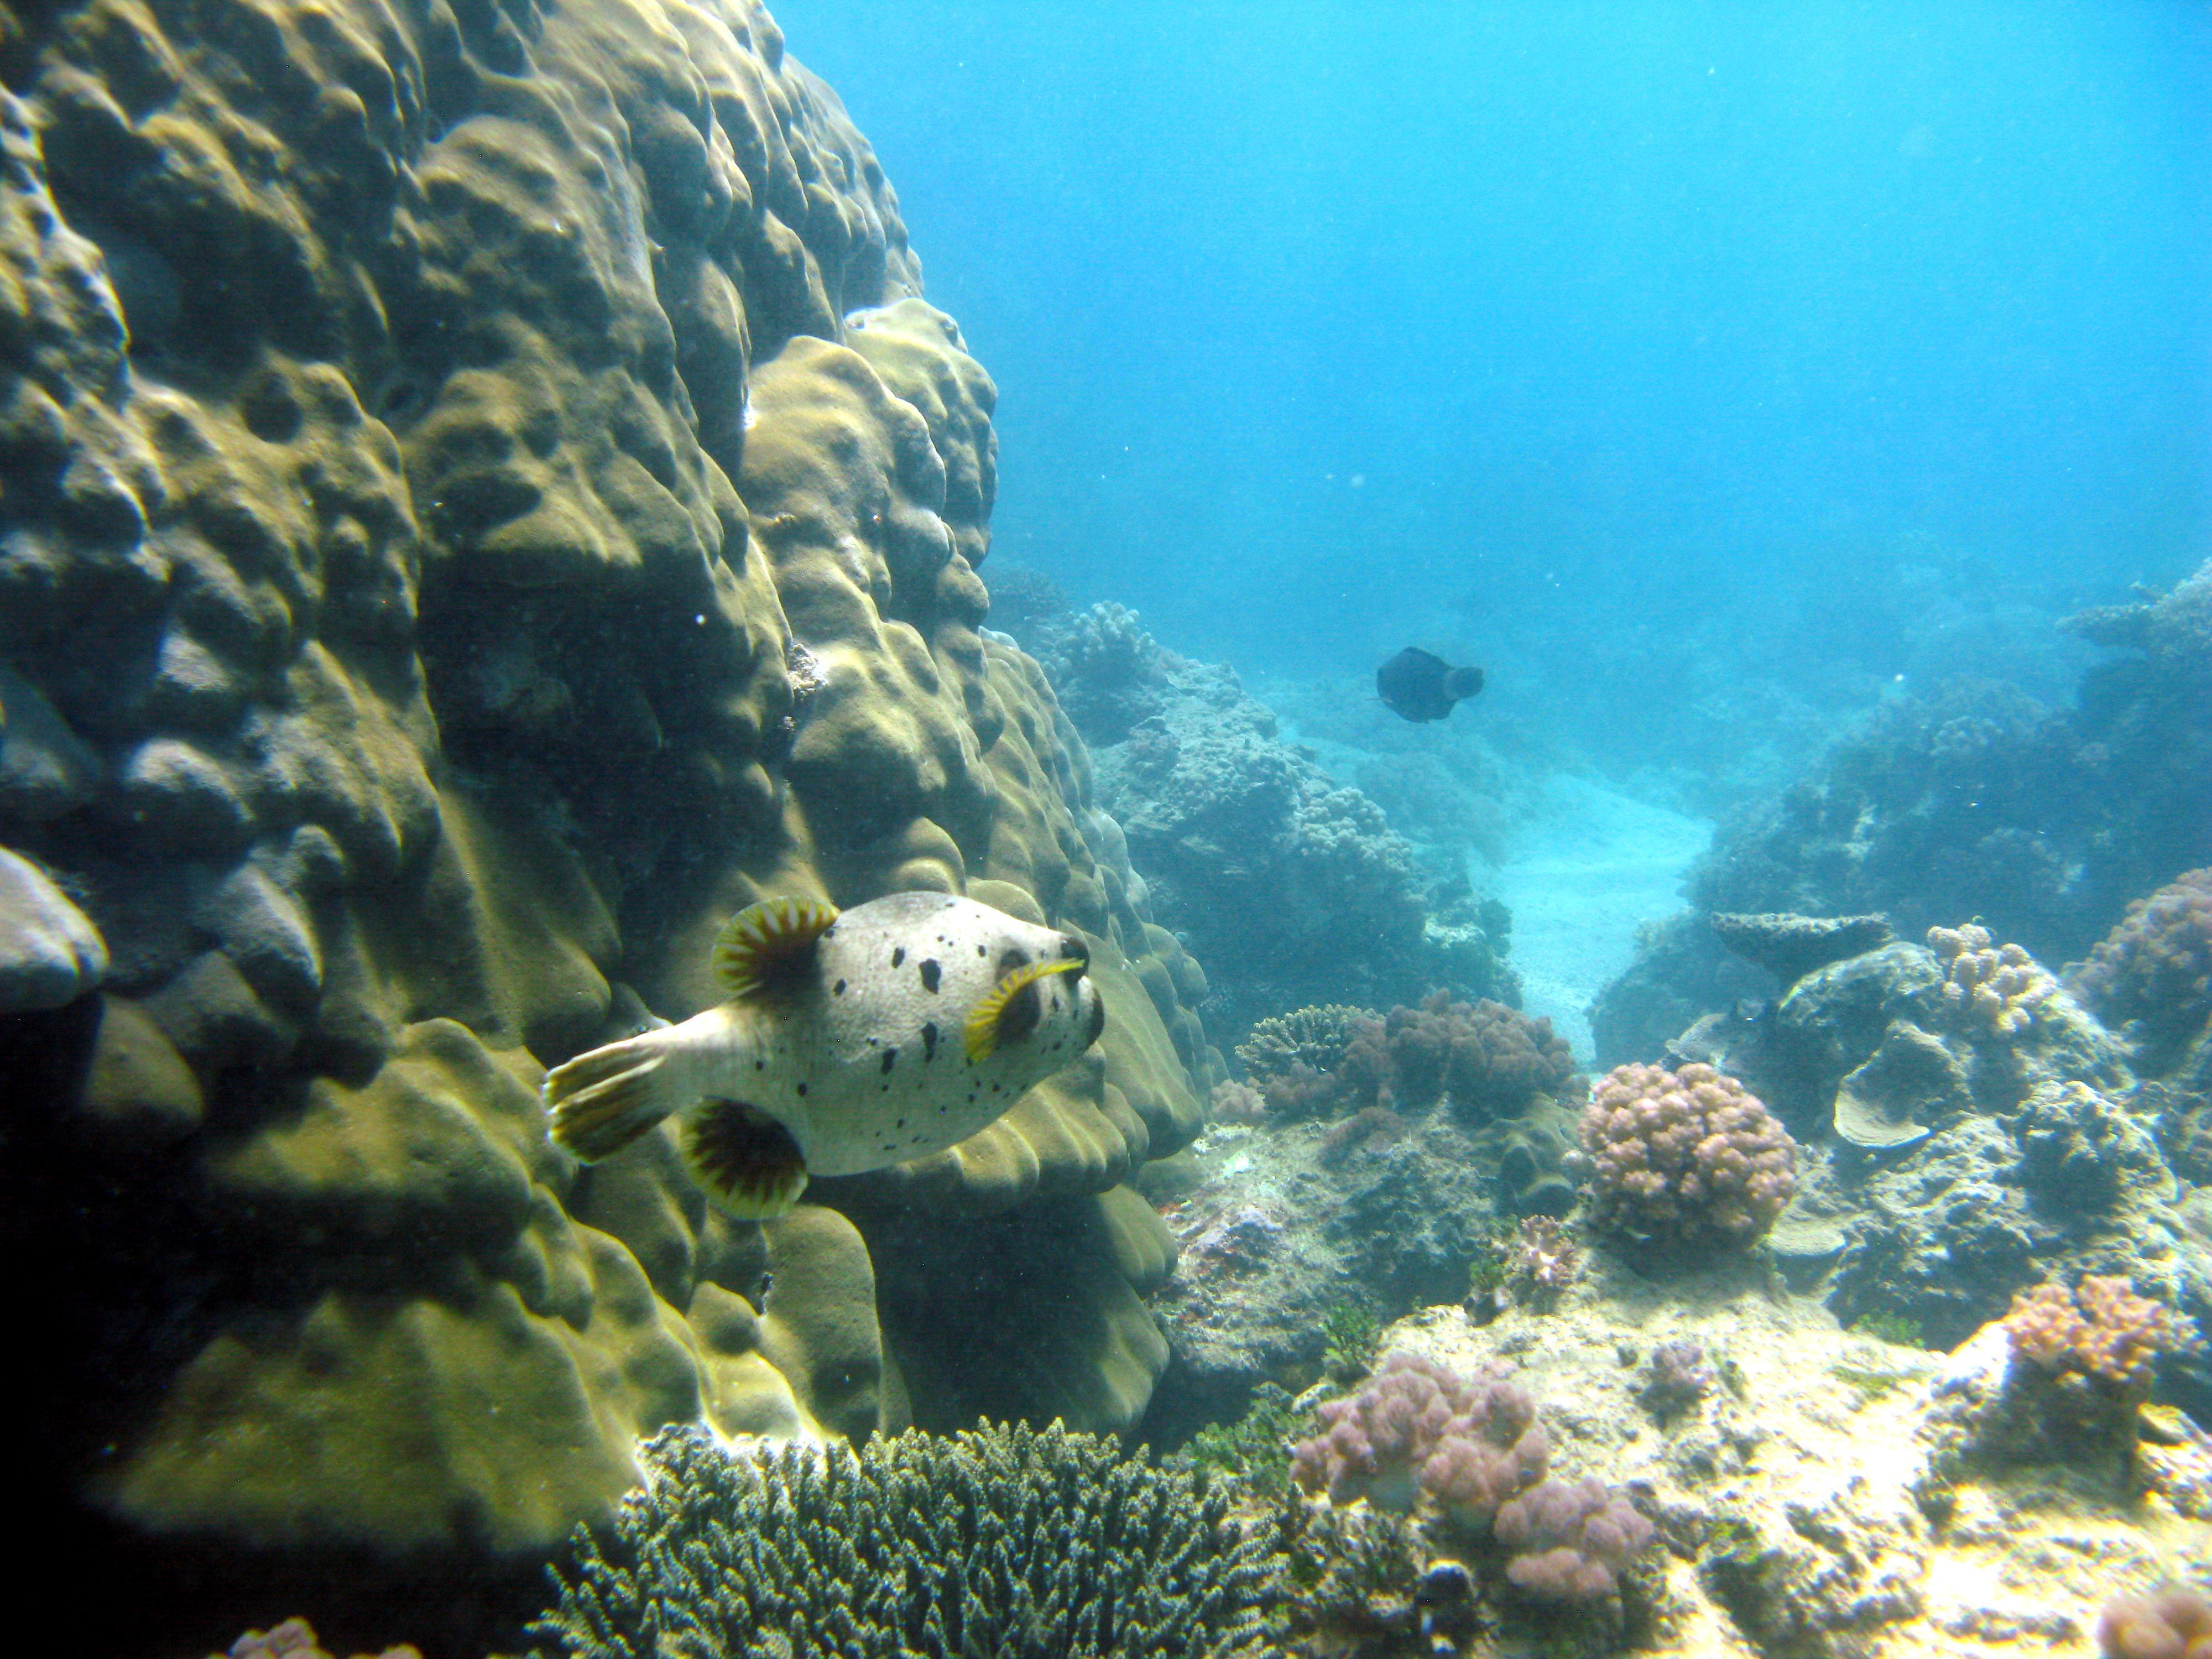Fish: (423, 732, 1242, 1321)
